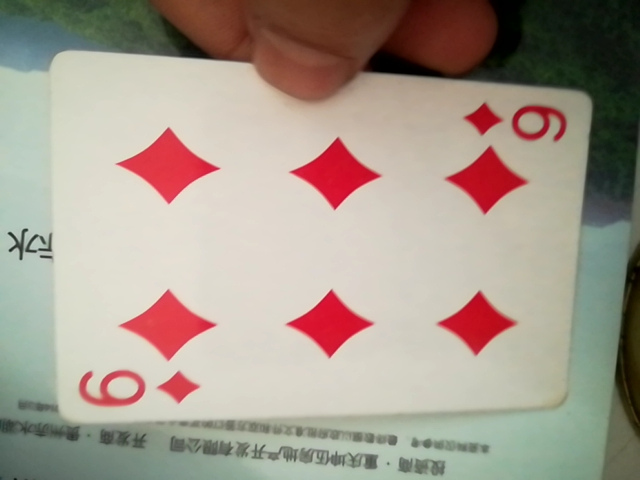fk 6: (39, 49, 588, 433)
